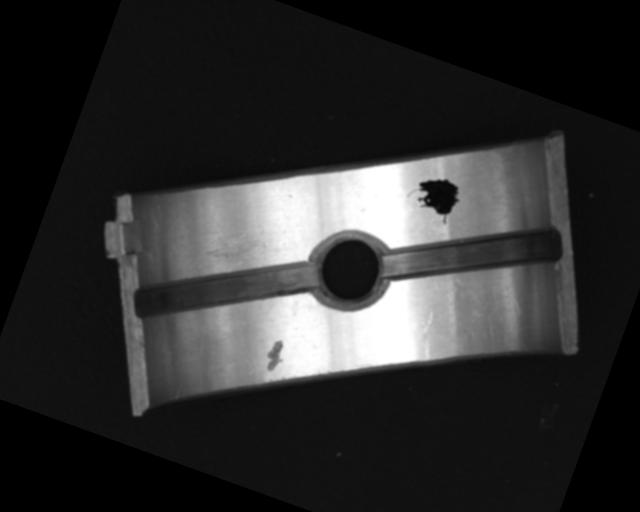blot: (402, 167, 467, 227)
bruise: (260, 335, 290, 375)
gap: (133, 213, 319, 365), (380, 176, 566, 324)
hole: (299, 218, 400, 319)
nick: (408, 309, 445, 361)
scratch: (195, 211, 277, 278)
